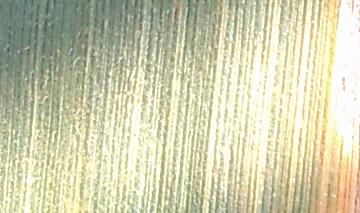tarspot: (339, 75, 348, 94), (349, 1, 356, 14), (347, 30, 354, 37), (356, 24, 360, 33)
